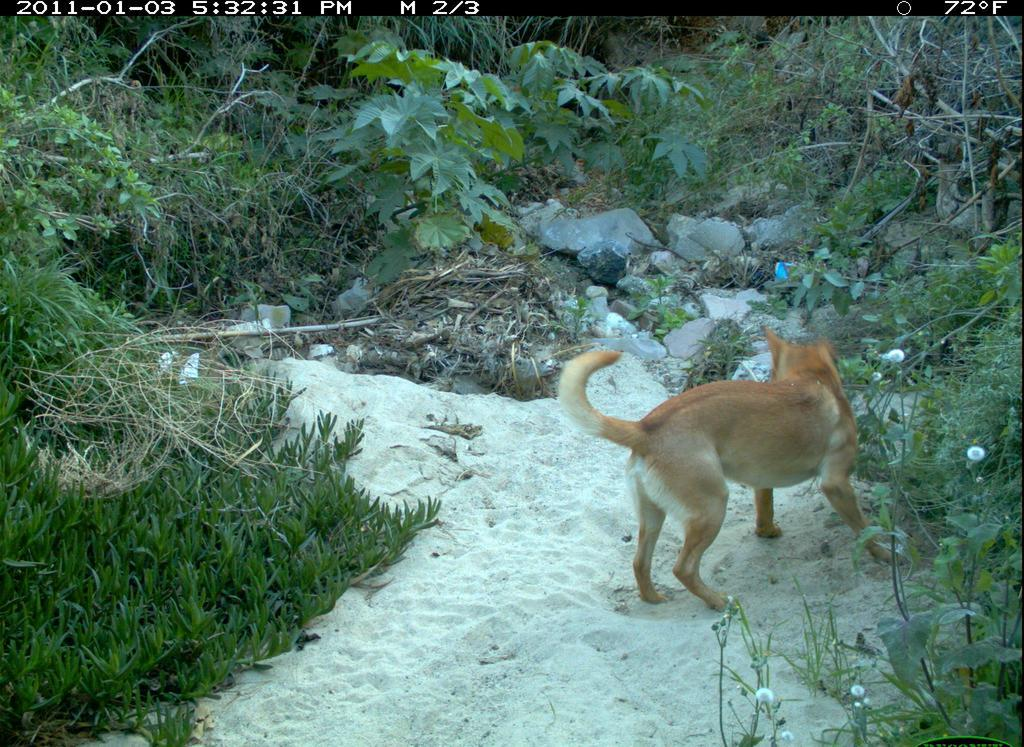dog: (557, 313, 911, 617)
